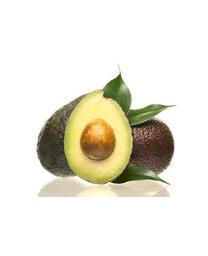avocado: (37, 91, 110, 178), (64, 92, 132, 185), (112, 115, 174, 179)
